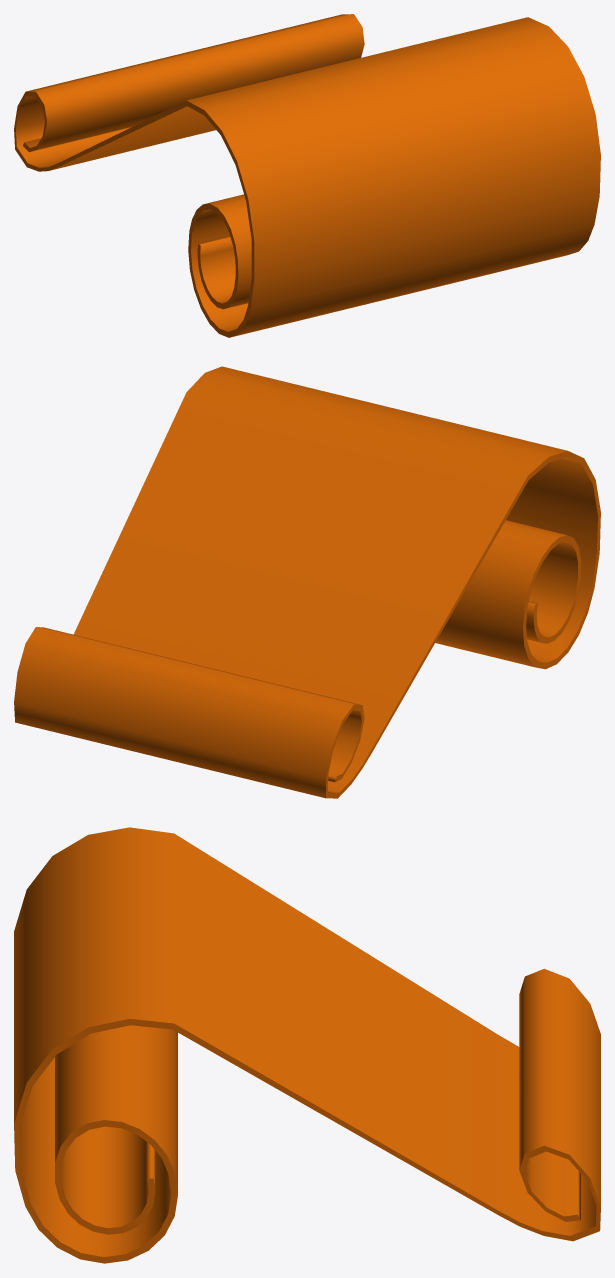
File: assets_parchment.fbx
The picture shows the model from 3 angles, top to bottom: view 1: azimuth 30°, elevation 25°; view 2: azimuth 150°, elevation 25°; view 3: azimuth 270°, elevation 25°; orthographic projection. The views are drawn at different scales.
Visible parts, largest first — view 1: Arc006; view 2: Arc006; view 3: Arc006.
Part boxes in pixels (x1,y1,x2,y2): Arc006: (14,14,600,337); Arc006: (14,366,600,798); Arc006: (14,827,600,1263).
Size of the model in its own units: 0.4362 by 0.2596 by 0.5599.
